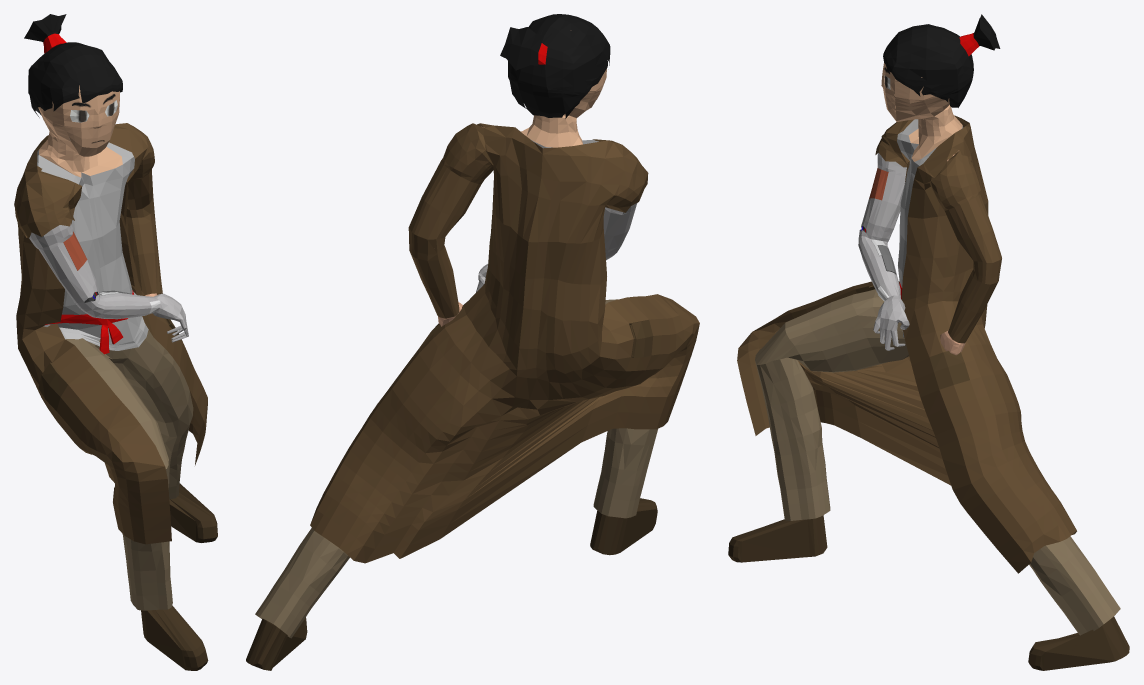
File: One_RL_000015.obj
3 views of the same model, side by side, from view 1: azimuth 30°, elevation 25°; view 2: azimuth 150°, elevation 25°; view 3: azimuth 270°, elevation 25° (orthographic). The views are drawn at different scales.
Parts seen in each view (by area): view 1: Hair_Cube.004; view 2: Hair_Cube.004; view 3: Hair_Cube.004.
Part boxes in pixels (bbox=[...]): Hair_Cube.004: bbox=[14, 14, 217, 670]; Hair_Cube.004: bbox=[246, 14, 699, 670]; Hair_Cube.004: bbox=[728, 14, 1129, 670].
Size of the model in its own units: 1.62 by 3.48 by 2.25.
